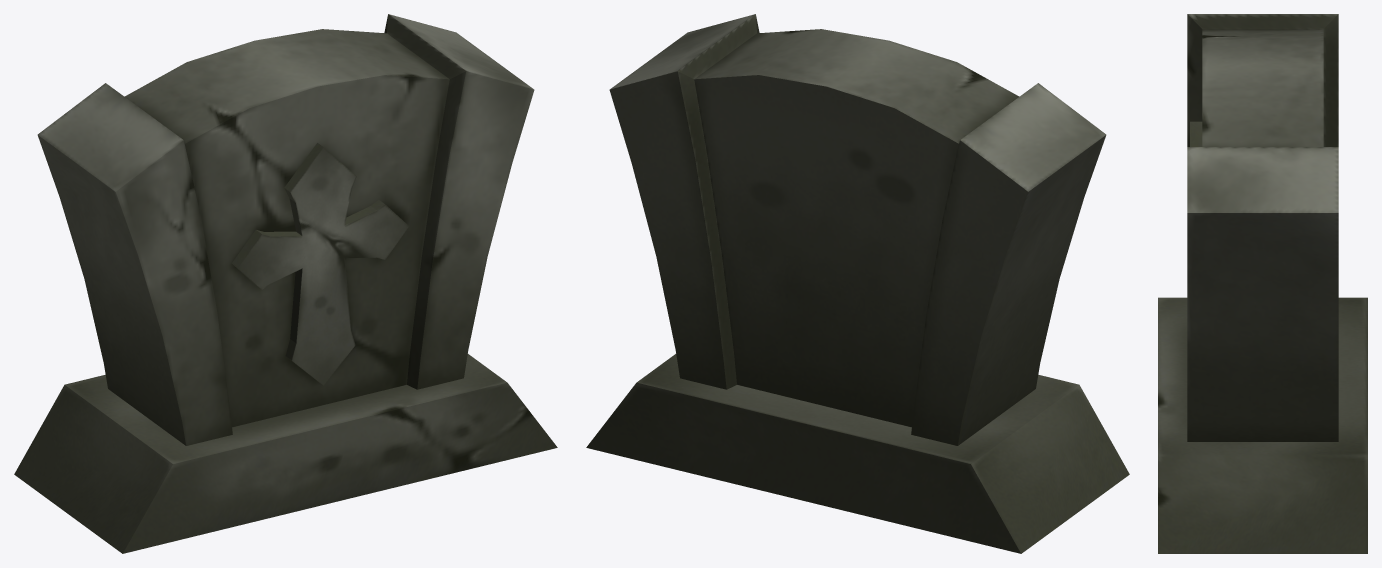
Rendered from gravestoneC.fbx.
3 renders of one model, left to right at view 1: azimuth 30°, elevation 25°; view 2: azimuth 150°, elevation 25°; view 3: azimuth 270°, elevation 25°, orthographic. The views are drawn at different scales.
Parts seen in each view (by area): view 1: gravestone_003; view 2: gravestone_003; view 3: gravestone_003.
Boxes of the visible parts, <box> form: gravestone_003: <box>14,14,557,553</box>; gravestone_003: <box>586,14,1129,553</box>; gravestone_003: <box>1158,14,1367,553</box>.
Bounding box in the file's own units: 153 × 134 × 66.2.
